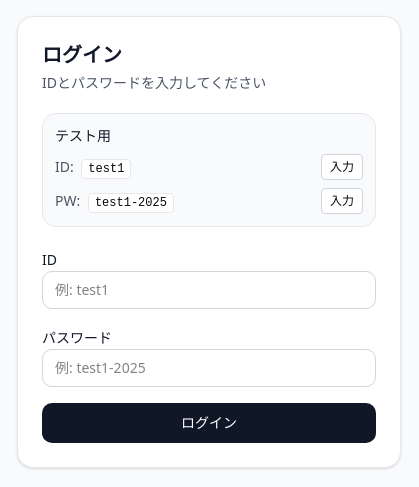
Test: LoginPageClient (component) › 「テスト用 入力」ボタンで ID/PW がフォームに反映される
The image size is (419, 487).
Note: 上がID、下がPW（現状のDOM構造に依存）
Click the button "入力" in the row of "ID:" at (342, 167), box [321, 154, 363, 180]
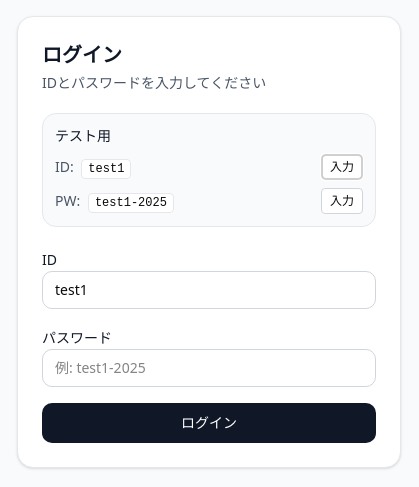
Click the button "入力" next to "test1-2025" at (342, 201), box [321, 188, 363, 214]
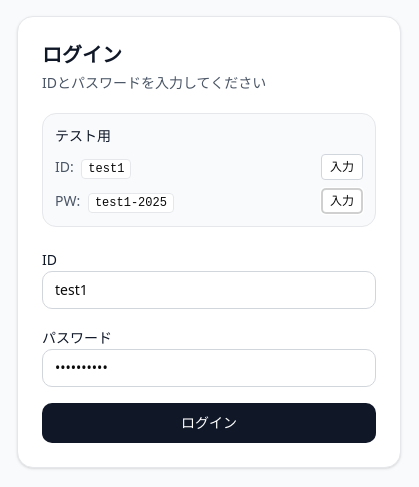
Expected: the field with placeholder "例: test1" holds "test1", [42, 271, 376, 309]
Expected: the password field with placeholder "例: test1-2025" holds "test1-2025", [42, 349, 376, 387]
